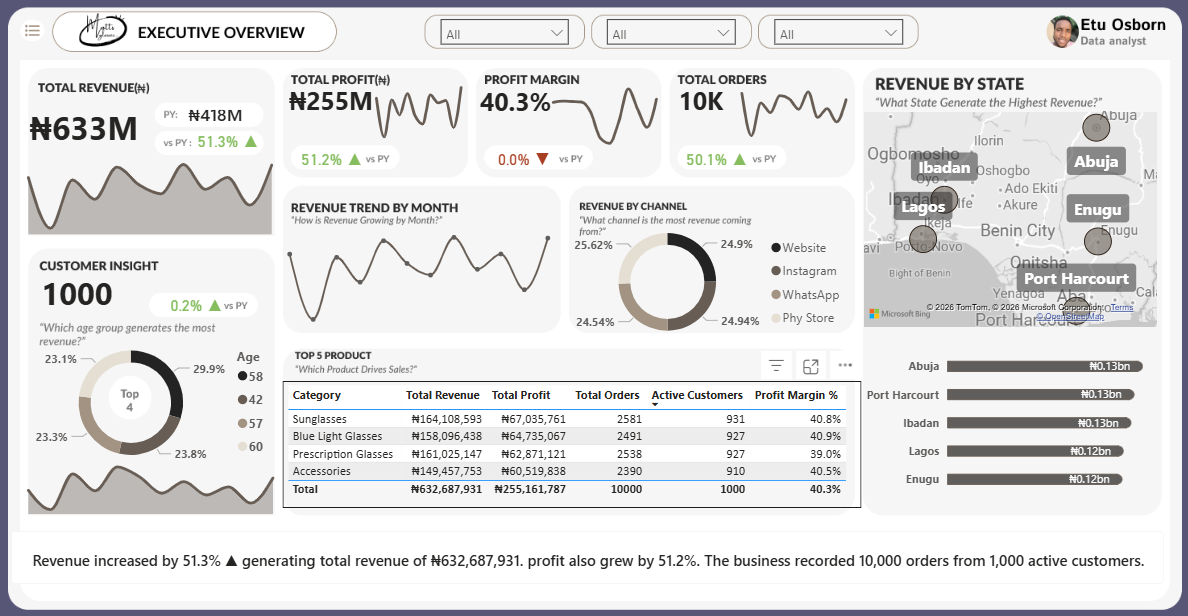

This screenshot's page, from the dashboard's own definition file:
{"tool":"powerbi","page":{"name":"EXECUTIVE DASHBOARD","canvas":[1280,720],"ordinal":0},"visuals":[{"type":"card","fields":{"Values":["DAX MEASURES.Total Revenue"]},"box":[27.1,131.3,127.2,63.6],"z":0},{"type":"card","fields":{"Values":["DAX MEASURES.Total Profit"]},"box":[303.2,104.2,106.9,63.6],"z":1000},{"type":"card","fields":{"Values":["DAX MEASURES.Profit Margin %"]},"box":[507.5,104.2,79.8,63.6],"z":2000},{"type":"card","fields":{"Values":["DAX MEASURES.Total Orders"]},"box":[710.5,104.2,88,63.6],"z":3000},{"type":"card","fields":{"Values":["DAX MEASURES.Total Customers"]},"box":[35.2,318,96.1,48.7],"z":4000},{"type":"card","fields":{"Values":["DAX MEASURES.Revenue PY"]},"box":[192.2,134,79.8,23],"z":5000},{"type":"card","fields":{"Values":["DAX MEASURES.% YoY REVENUE"]},"box":[205.7,162.4,79.8,32.5],"z":6000},{"type":"card","fields":{"Values":["DAX MEASURES.% YoY PROFIT"]},"box":[318,181.3,79.8,32.5],"z":7000},{"type":"card","fields":{"Values":["DAX MEASURES.% YoY PROFIT MARGIN"]},"box":[525.1,181.3,79.8,32.5],"z":8000},{"type":"card","fields":{"Values":["DAX MEASURES.% YoY ORDERS"]},"box":[732.2,181.3,79.8,32.5],"z":9000},{"type":"card","fields":{"Values":["DAX MEASURES.% YoY CUSTOMERS"]},"box":[171.9,339.7,79.8,24.4],"z":10000},{"type":"slicer","fields":{"Values":["Dim_Date.Year"]},"box":[469.6,42,147.5,40.6],"z":11000},{"type":"slicer","fields":{"Values":["Dim_Products.SubCategory"]},"box":[647.9,42,147.9,40],"z":12000},{"type":"slicer","fields":{"Values":["Dim_Products.Category"]},"box":[828.6,42,147.9,40],"z":13000},{"type":"lineChart","fields":{"Y":["DAX MEASURES.Total Revenue"],"Category":["Dim_Date.MonthNo"]},"box":[272,235.5,332.9,147.5],"z":14000},{"type":"areaChart","fields":{"Y":["DAX MEASURES.Total Revenue"],"Category":["Dim_Date.Month"]},"box":[16.2,163.8,291,119.1],"z":15000},{"type":"areaChart","fields":{"Category":["Dim_Date.Month"],"Y":["DAX MEASURES.Total Customers"]},"box":[16.2,514.3,292.3,70.4],"z":16000},{"type":"donutChart","fields":{"Category":["Dim_Customers.Age"],"Y":["DAX MEASURES.Total Revenue"]},"box":[27.1,383,274.7,151.6],"z":17000},{"type":"lineChart","fields":{"Category":["Dim_Date.MonthNo"],"Y":["DAX MEASURES.Total Profit"]},"box":[381.6,94.7,154.3,94.7],"z":18000},{"type":"lineChart","fields":{"Category":["Dim_Date.MonthNo"],"Y":["DAX MEASURES.Profit Margin %"]},"box":[561.6,100.1,189.5,98.8],"z":19000},{"type":"lineChart","fields":{"Category":["Dim_Date.MonthNo"],"Y":["DAX MEASURES.Total Orders"]},"box":[772.8,101.5,182.7,79.8],"z":20000},{"type":"tableEx","fields":{"Values":["Dim_Products.Category","DAX MEASURES.Total Revenue","DAX MEASURES.Total Profit","DAX MEASURES.Total Orders","DAX MEASURES.Active Customers","DAX MEASURES.Profit Margin %"]},"box":[304.3,435.7,622.9,137.1],"z":21000},{"type":"donutChart","fields":{"Y":["DAX MEASURES.Total Revenue"],"Category":["Dim_Channel.ChannelName"]},"box":[602.2,254.4,315.3,150.2],"z":22000},{"type":"map","fields":{"Category":["Dim_Customers.City"]},"box":[925.7,141.4,324.3,241.4],"z":23000},{"type":"barChart","fields":{"Category":["Dim_Customers.City"],"Y":["DAX MEASURES.Total Revenue"]},"box":[927,383,337,188.1],"z":24000},{"type":"cardVisual","fields":{"Data":["DAX MEASURES.Executive Insight Card"]},"box":[0,584.6,1264,81.2],"z":25000}]}

Visuals, with their boxes on the page's 1280x720 design canvas (x1, y1, x2, y2). These are canvas units, not pixel positions in the 1188x616 screenshot, which may show the page scaled, cropped or inside an application window:
card - DAX MEASURES.Total Revenue: [left=27, top=131, right=154, bottom=195]
card - DAX MEASURES.Total Profit: [left=303, top=104, right=410, bottom=168]
card - DAX MEASURES.Profit Margin %: [left=508, top=104, right=587, bottom=168]
card - DAX MEASURES.Total Orders: [left=710, top=104, right=798, bottom=168]
card - DAX MEASURES.Total Customers: [left=35, top=318, right=131, bottom=367]
card - DAX MEASURES.Revenue PY: [left=192, top=134, right=272, bottom=157]
card - DAX MEASURES.% YoY REVENUE: [left=206, top=162, right=286, bottom=195]
card - DAX MEASURES.% YoY PROFIT: [left=318, top=181, right=398, bottom=214]
card - DAX MEASURES.% YoY PROFIT MARGIN: [left=525, top=181, right=605, bottom=214]
card - DAX MEASURES.% YoY ORDERS: [left=732, top=181, right=812, bottom=214]
card - DAX MEASURES.% YoY CUSTOMERS: [left=172, top=340, right=252, bottom=364]
slicer - Dim_Date.Year: [left=470, top=42, right=617, bottom=83]
slicer - Dim_Products.SubCategory: [left=648, top=42, right=796, bottom=82]
slicer - Dim_Products.Category: [left=829, top=42, right=976, bottom=82]
lineChart - DAX MEASURES.Total Revenue x Dim_Date.MonthNo: [left=272, top=236, right=605, bottom=383]
areaChart - DAX MEASURES.Total Revenue x Dim_Date.Month: [left=16, top=164, right=307, bottom=283]
areaChart - Dim_Date.Month x DAX MEASURES.Total Customers: [left=16, top=514, right=308, bottom=585]
donutChart - Dim_Customers.Age x DAX MEASURES.Total Revenue: [left=27, top=383, right=302, bottom=535]
lineChart - Dim_Date.MonthNo x DAX MEASURES.Total Profit: [left=382, top=95, right=536, bottom=189]
lineChart - Dim_Date.MonthNo x DAX MEASURES.Profit Margin %: [left=562, top=100, right=751, bottom=199]
lineChart - Dim_Date.MonthNo x DAX MEASURES.Total Orders: [left=773, top=102, right=956, bottom=181]
tableEx - Dim_Products.Category x DAX MEASURES.Total Revenue: [left=304, top=436, right=927, bottom=573]
donutChart - DAX MEASURES.Total Revenue x Dim_Channel.ChannelName: [left=602, top=254, right=918, bottom=405]
map - Dim_Customers.City: [left=926, top=141, right=1250, bottom=383]
barChart - Dim_Customers.City x DAX MEASURES.Total Revenue: [left=927, top=383, right=1264, bottom=571]
cardVisual - DAX MEASURES.Executive Insight Card: [left=0, top=585, right=1264, bottom=666]
